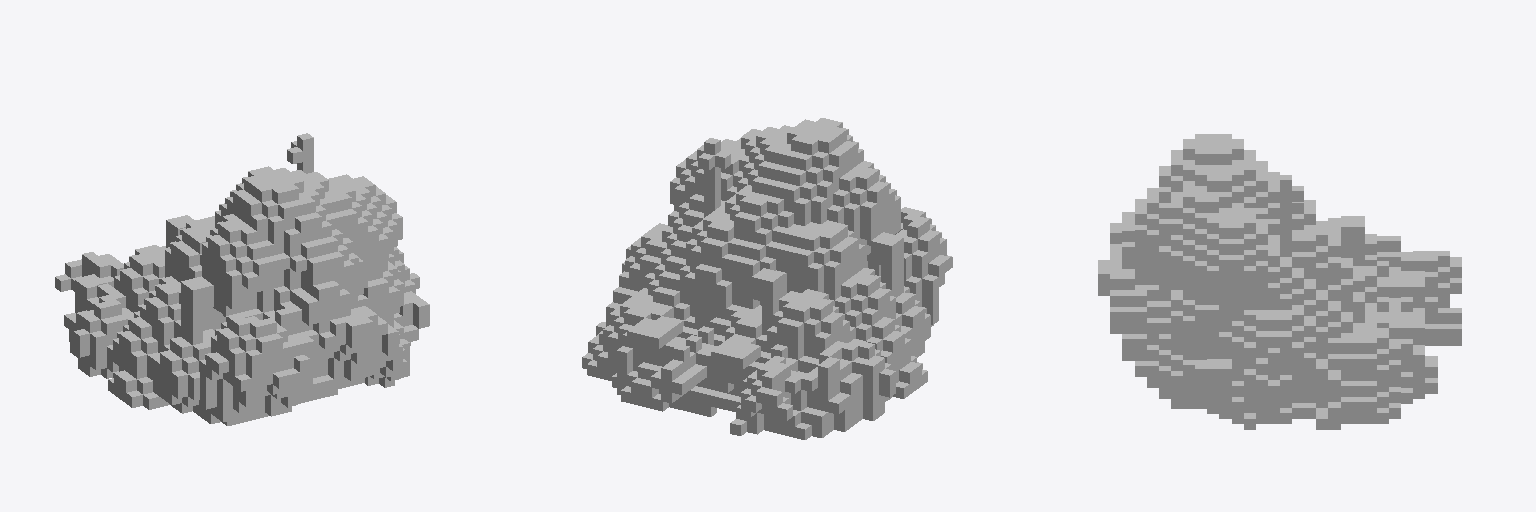
Rendered from SC_Rock2.obj.
3 views of the same model, side by side, from view 1: azimuth 30°, elevation 25°; view 2: azimuth 150°, elevation 25°; view 3: azimuth 270°, elevation 25° (orthographic).
Parts seen in each view (by area): view 1: SC_Rock2; view 2: SC_Rock2; view 3: SC_Rock2.
Boxes of the visible parts, x1=… form: SC_Rock2: x1=55, y1=133, x2=429, y2=425; SC_Rock2: x1=582, y1=118, x2=952, y2=439; SC_Rock2: x1=1098, y1=134, x2=1461, y2=429.
Bounding box in the file's own units: 29 × 19 × 30.